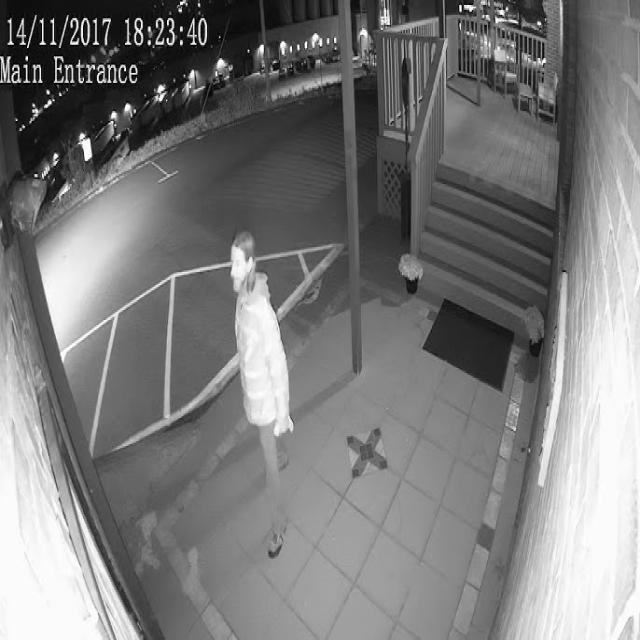standing: (230, 230, 293, 557)
